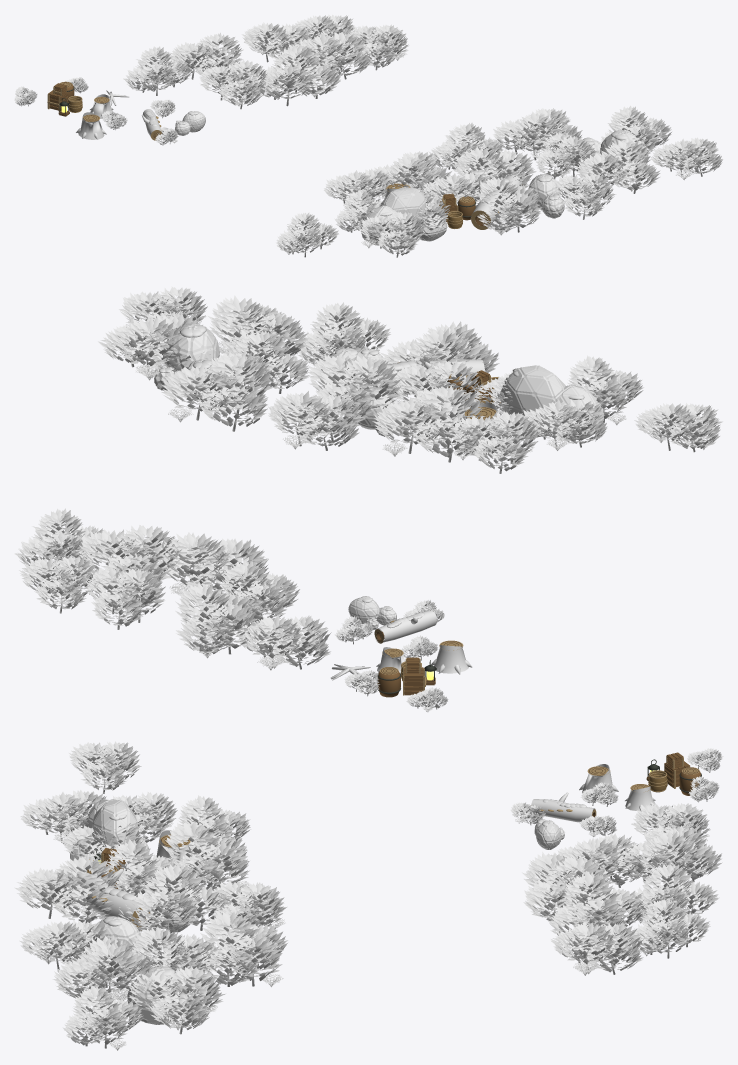
The model's file is SM_DF_Explorer_2_0_Macro.fbx.
3 renders of one model, top to bottom at view 1: azimuth 30°, elevation 25°; view 2: azimuth 150°, elevation 25°; view 3: azimuth 270°, elevation 25°, orthographic. The views are drawn at different scales.
Parts seen in each view (by area): view 1: SM_DF_Explorer_2_0_Macro; view 2: SM_DF_Explorer_2_0_Macro; view 3: SM_DF_Explorer_2_0_Macro.
Part boxes in pixels (x1=…): SM_DF_Explorer_2_0_Macro: x1=14, y1=14, x2=722, y2=257; SM_DF_Explorer_2_0_Macro: x1=14, y1=286, x2=722, y2=711; SM_DF_Explorer_2_0_Macro: x1=14, y1=741, x2=723, y2=1050.
Size of the model in its own units: 2776 by 2813 by 305.
